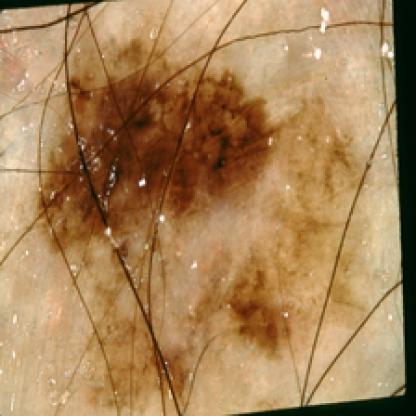malignant: (61, 20, 244, 247)
